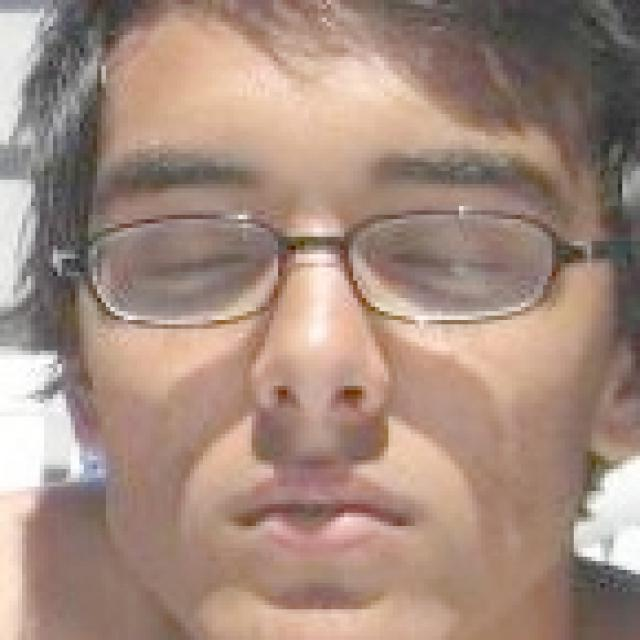sleepy: (56, 126, 610, 576)
